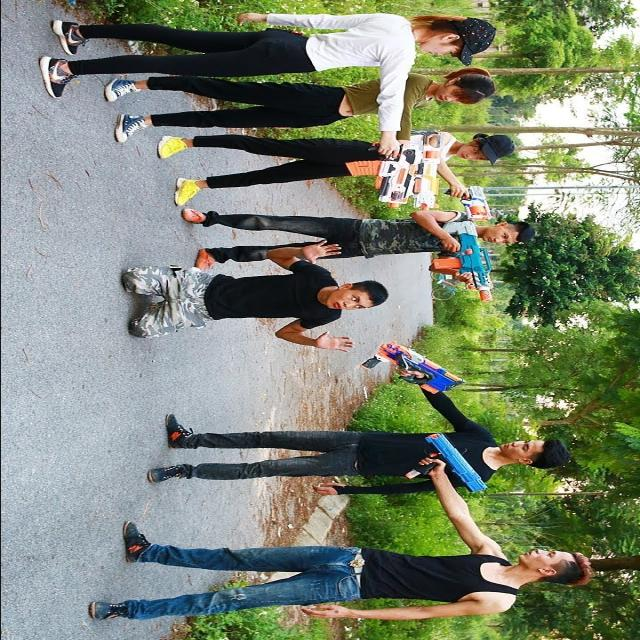Nerf gun: (428, 217, 499, 306), (342, 121, 417, 205), (400, 432, 500, 494), (368, 334, 460, 398), (409, 128, 451, 211), (445, 182, 495, 224)
